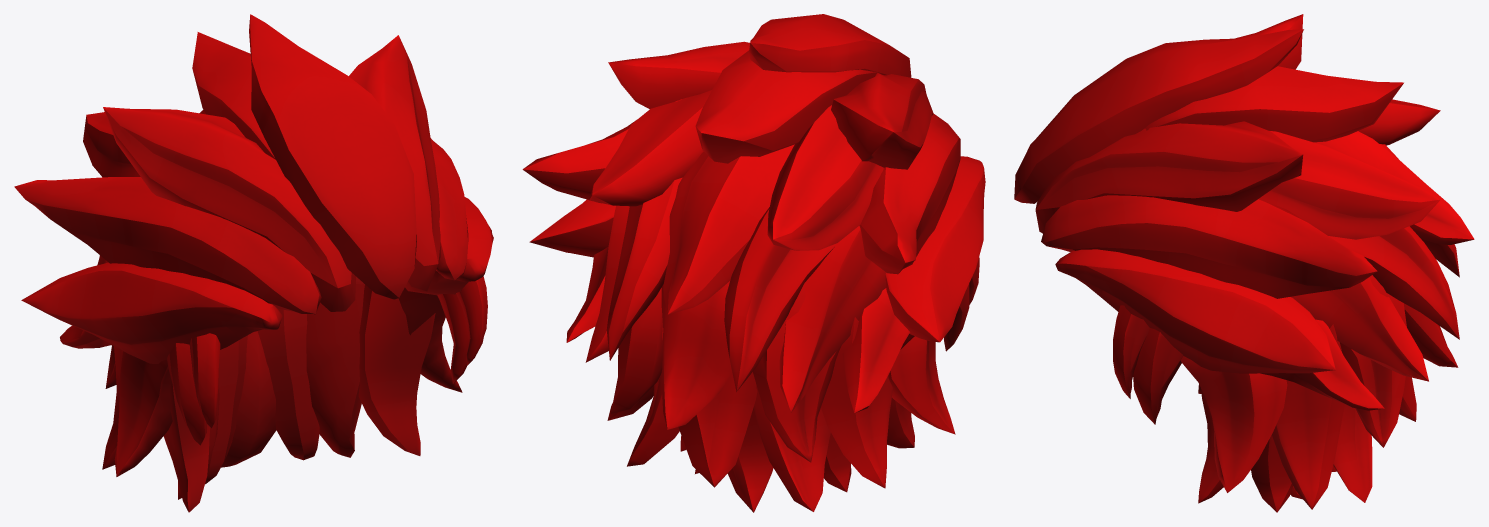
File: HairBack_PhenoixSpikes.fbx
3 renders of one model, left to right at view 1: azimuth 30°, elevation 25°; view 2: azimuth 150°, elevation 25°; view 3: azimuth 270°, elevation 25°, orthographic. The views are drawn at different scales.
Parts seen in each view (by area): view 1: HairBack_PhenoixSpikes; view 2: HairBack_PhenoixSpikes; view 3: HairBack_PhenoixSpikes.
Part boxes in pixels (<box>): HairBack_PhenoixSpikes: <box>14,14,493,512</box>; HairBack_PhenoixSpikes: <box>522,14,985,512</box>; HairBack_PhenoixSpikes: <box>1014,14,1474,512</box>.
Size of the model in its own units: 27.24 by 28.45 by 26.21.
1 material, 1 textured.
